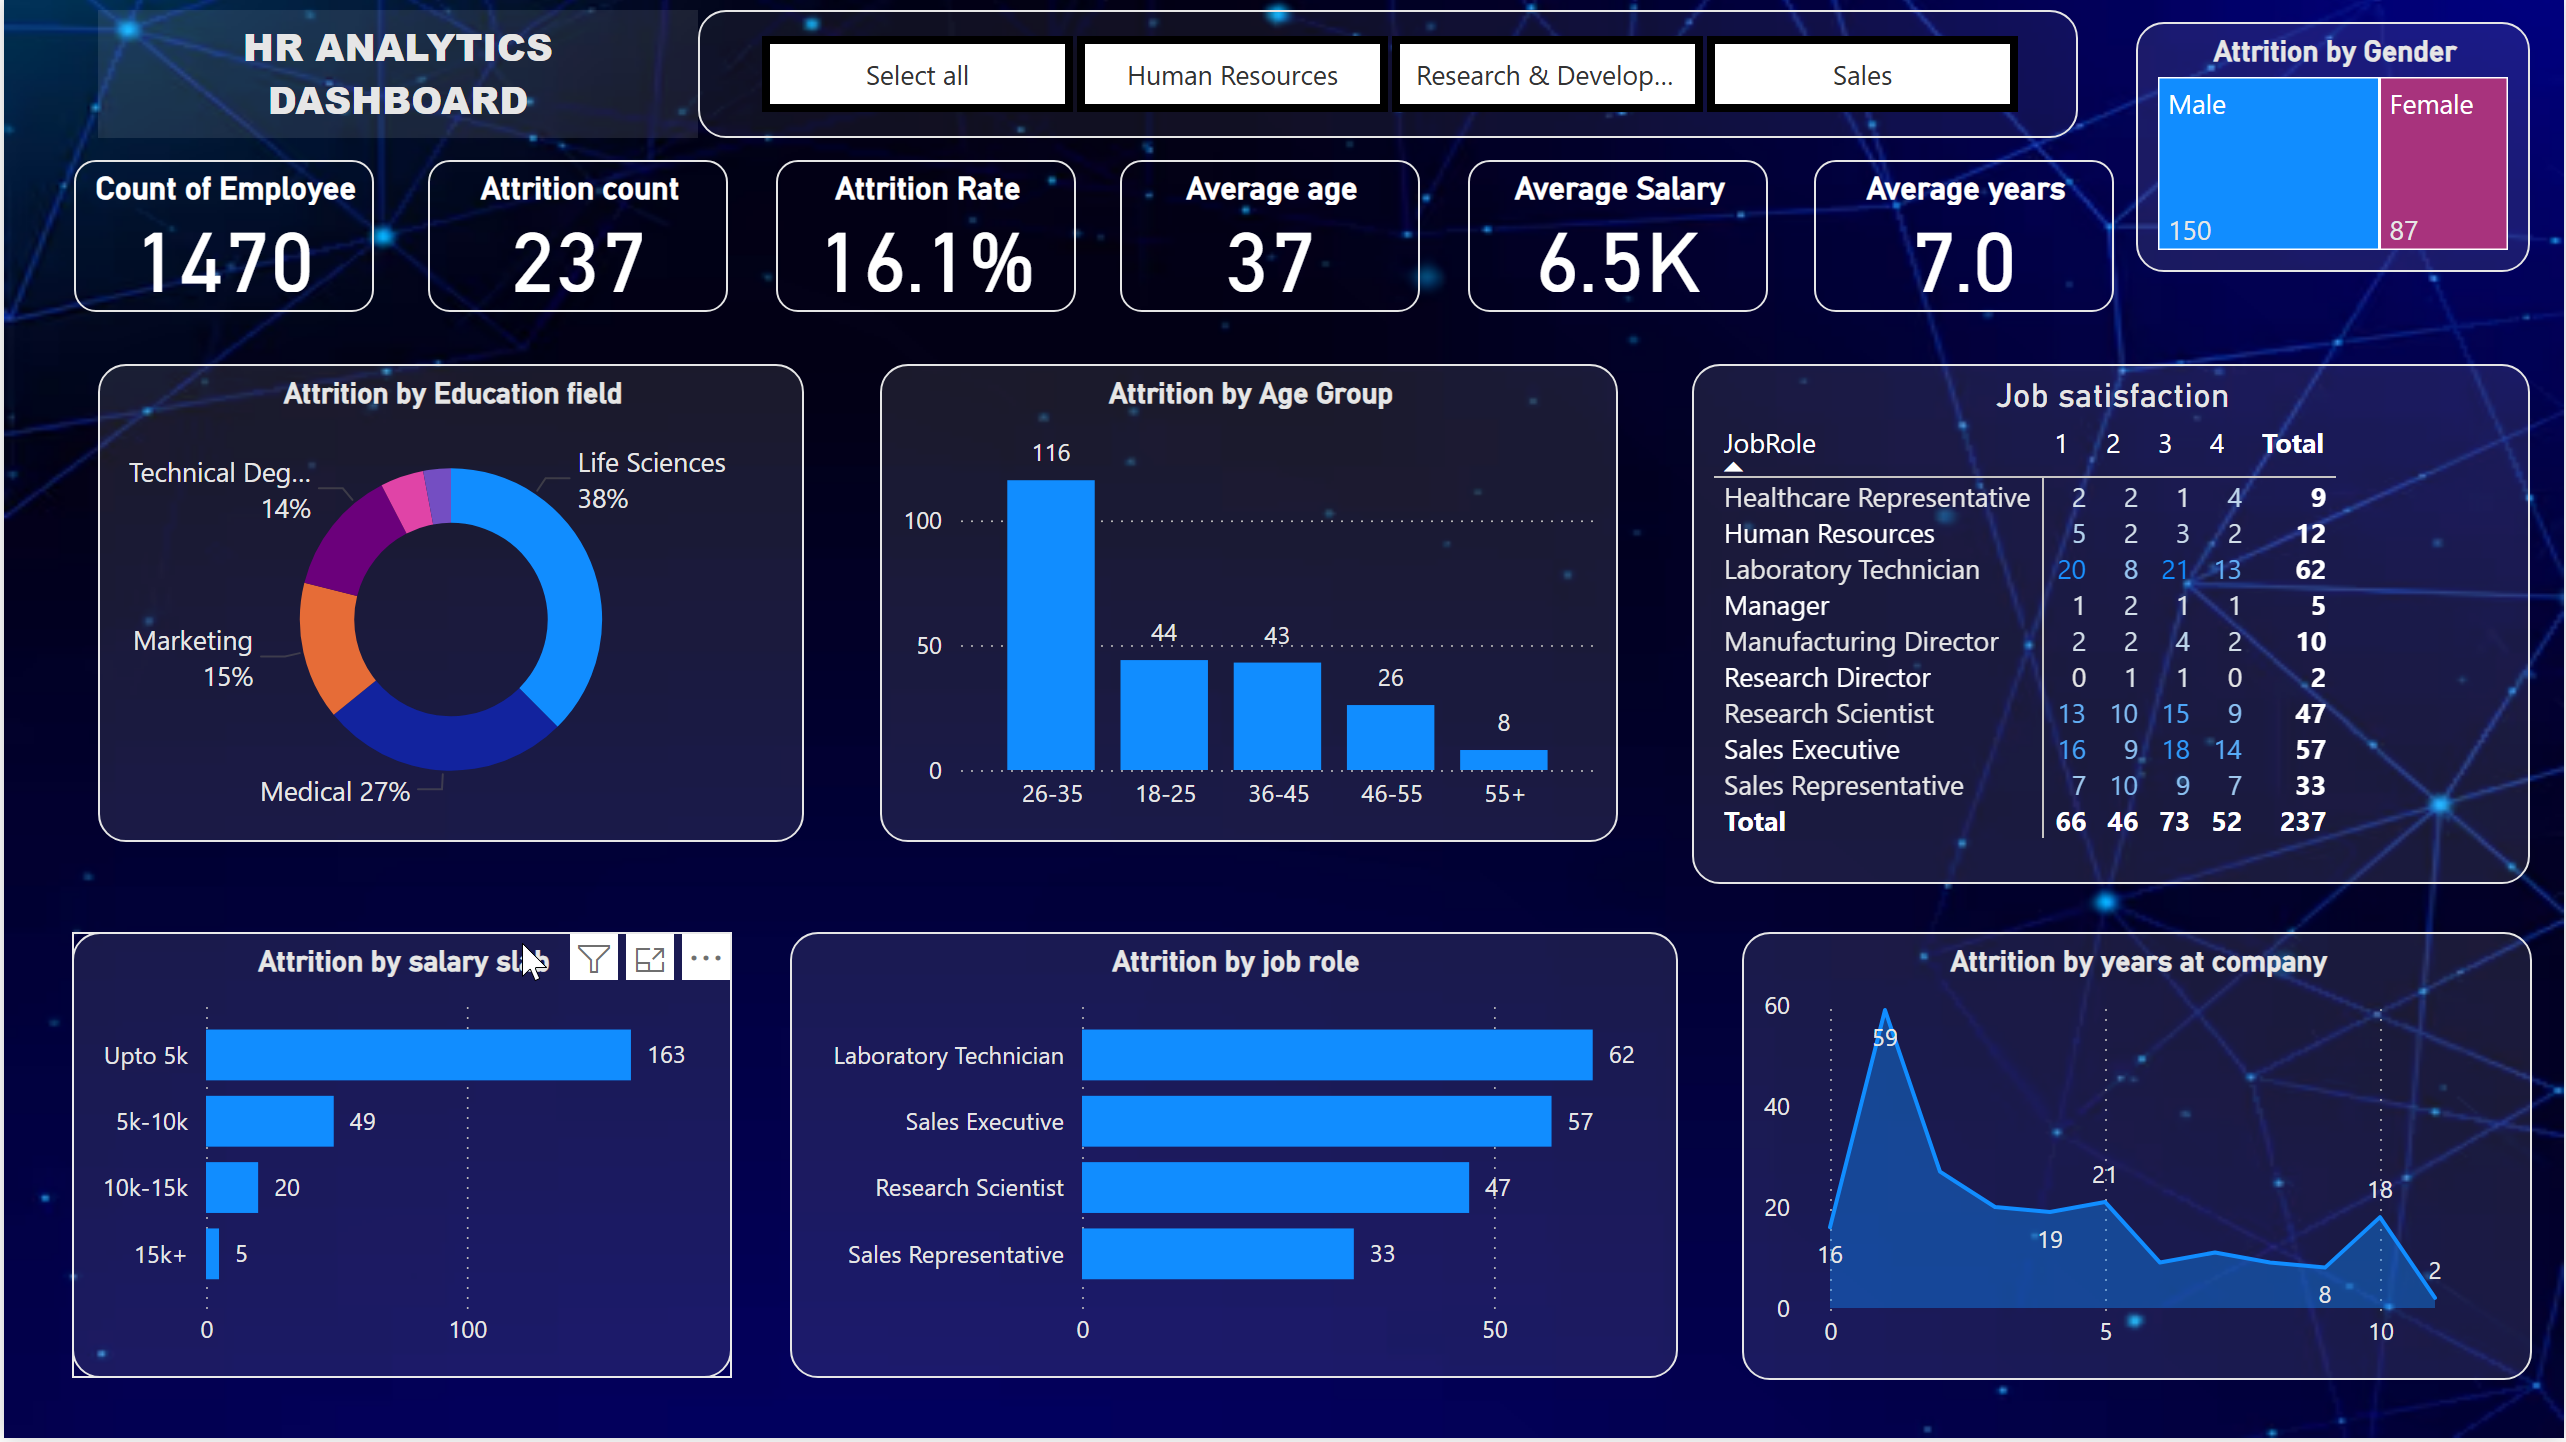

This screenshot's page, from the dashboard's own definition file:
{"tool":"powerbi","page":{"name":"Page 1","canvas":[1280,720],"ordinal":0},"visuals":[{"type":"card","title":"Count of Employee","fields":{"Values":["CountNonNull(HR_Analysis.EmpID)"]},"box":[34.5,81.4,150,75.5],"z":0},{"type":"card","title":"Attrition count","fields":{"Values":["Sum(HR_Analysis.AttritionCount)"]},"box":[211.8,81.4,150,75.5],"z":1000},{"type":"card","title":"Attrition Rate","fields":{"Values":["HR_Analysis.AttritionRate"]},"box":[386.4,81.4,150,75.5],"z":2000},{"type":"card","title":"Average age","fields":{"Values":["Avg(HR_Analysis.Age)"]},"box":[558.2,81.4,150,75.5],"z":3000},{"type":"card","title":"Average Salary","fields":{"Values":["Avg(HR_Analysis.MonthlyIncome)"]},"box":[731.8,81.4,150,75.5],"z":4000},{"type":"card","title":"Average years","fields":{"Values":["Avg(HR_Analysis.YearsAtCompany)"]},"box":[904.5,81.4,150,75.5],"z":5000},{"type":"donutChart","title":"Attrition by Education field","fields":{"Category":["HR_Analysis.EducationField"],"Y":["Sum(HR_Analysis.AttritionCount)"]},"box":[47.3,182.7,352.7,239.1],"z":6000},{"type":"columnChart","title":"Attrition by Age Group","fields":{"Category":["HR_Analysis.AgeGroup"],"Y":["Sum(HR_Analysis.AttritionCount)"]},"box":[438,183,369,239],"z":7000},{"type":"pivotTable","title":"Job satisfaction","fields":{"Rows":["HR_Analysis.JobRole"],"Columns":["HR_Analysis.JobSatisfaction"],"Values":["Sum(HR_Analysis.AttritionCount)"]},"box":[844,183,419,260],"z":8000},{"type":"barChart","title":"Attrition by salary slab","fields":{"Category":["HR_Analysis.SalarySlab"],"Y":["Sum(HR_Analysis.AttritionCount)"]},"box":[34.1,466.8,330,223.6],"z":9000},{"type":"barChart","title":"Attrition by job role","fields":{"Category":["HR_Analysis.JobRole"],"Y":["Sum(HR_Analysis.AttritionCount)"]},"box":[393.2,466.8,443.6,223.6],"z":10000},{"type":"areaChart","title":"Attrition by years at company","fields":{"Category":["HR_Analysis.YearsAtCompany"],"Y":["Sum(HR_Analysis.AttritionCount)"]},"box":[869,467,395,224],"z":11000},{"type":"treemap","title":"Attrition by Gender","fields":{"Group":["HR_Analysis.Gender"],"Values":["Sum(HR_Analysis.AttritionCount)"]},"box":[1066,12,197,125],"z":12000},{"type":"slicer","fields":{"Values":["HR_Analysis.Department"]},"box":[347,6,690,64],"z":13000},{"type":"textbox","box":[47,6,300,64],"z":14000}]}

Visuals, with their boxes in screenshot pixels (x1, y1, x2, y2), scaled from the page's 1280x720 canvas onto the 2566x1442 screenshot:
"Count of Employee" card: 69, 163, 370, 314
"Attrition count" card: 425, 163, 725, 314
"Attrition Rate" card: 775, 163, 1075, 314
"Average age" card: 1119, 163, 1420, 314
"Average Salary" card: 1467, 163, 1768, 314
"Average years" card: 1813, 163, 2114, 314
"Attrition by Education field" donutChart: 95, 366, 802, 845
"Attrition by Age Group" columnChart: 878, 367, 1618, 845
"Job satisfaction" pivotTable: 1692, 367, 2532, 887
"Attrition by salary slab" barChart: 68, 935, 730, 1383
"Attrition by job role" barChart: 788, 935, 1678, 1383
"Attrition by years at company" areaChart: 1742, 935, 2534, 1384
"Attrition by Gender" treemap: 2137, 24, 2532, 274
slicer - HR_Analysis.Department: 696, 12, 2079, 140
textbox: 94, 12, 696, 140
